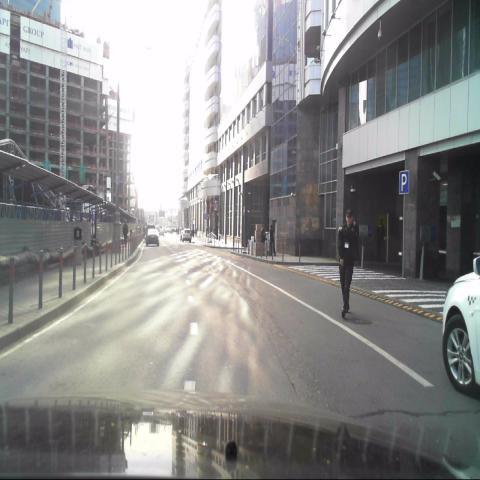6_4: (398, 169, 410, 195)
